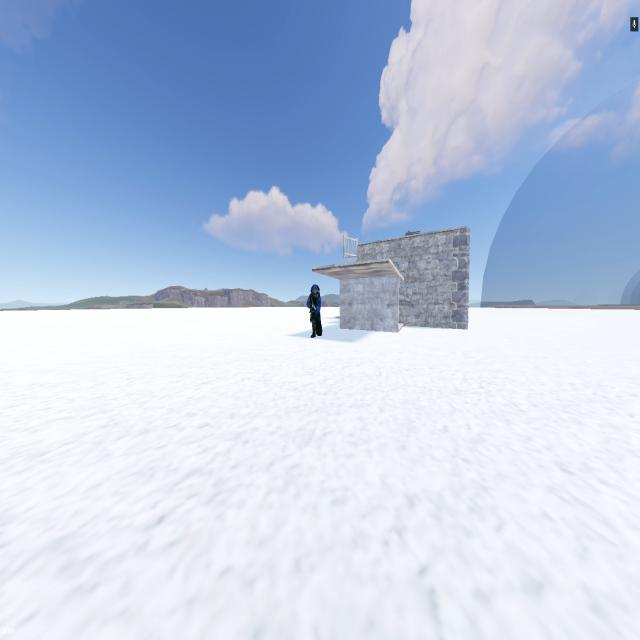Player: (306, 284, 322, 338)
